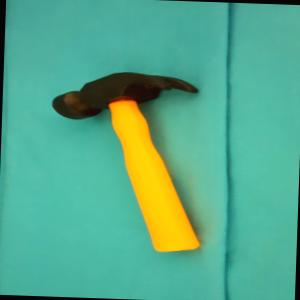martelo: (46, 69, 206, 254)
